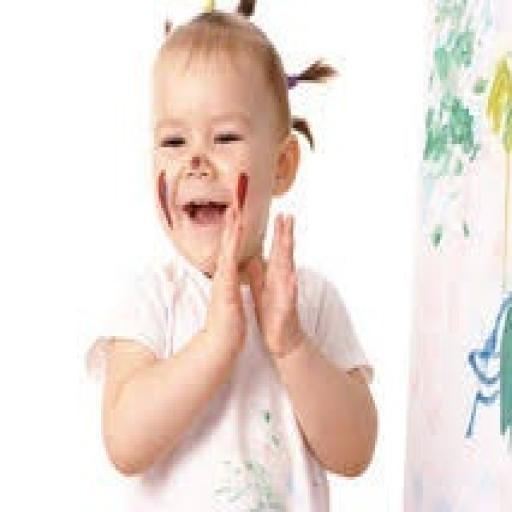clapping: (84, 0, 380, 509)
